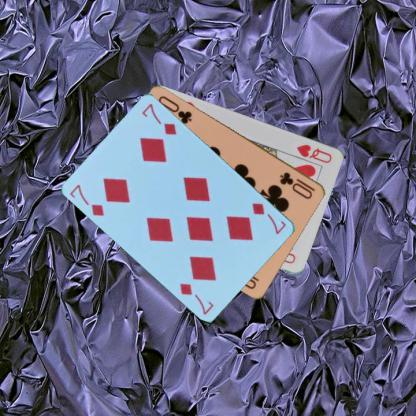10c: (277, 170, 317, 200)
7d: (68, 181, 106, 218), (250, 200, 288, 236)
Qh: (294, 142, 333, 164)
